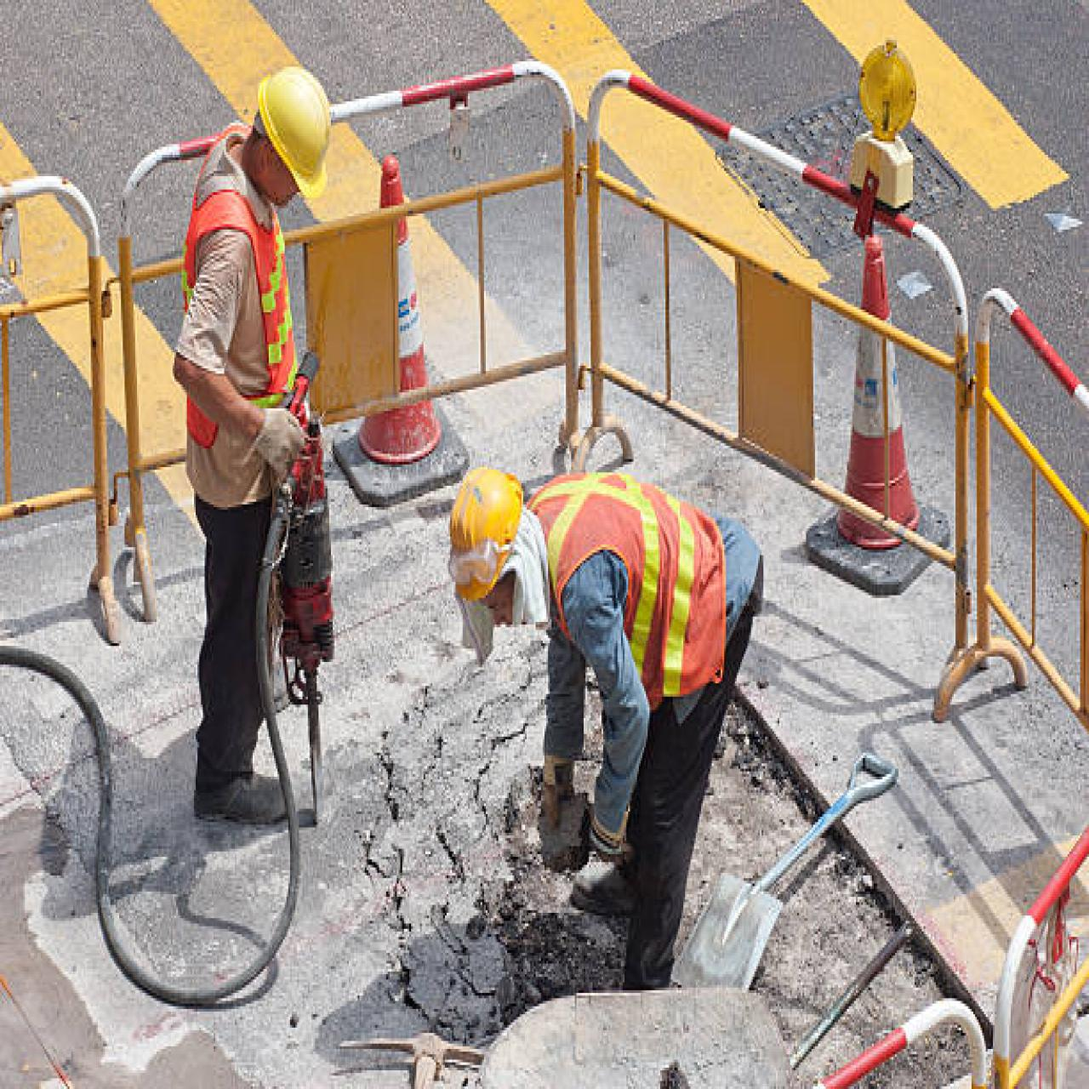Person: (425, 434, 793, 1006), (163, 34, 352, 844)
Safety_Vest: (523, 465, 744, 700), (173, 125, 311, 478)
